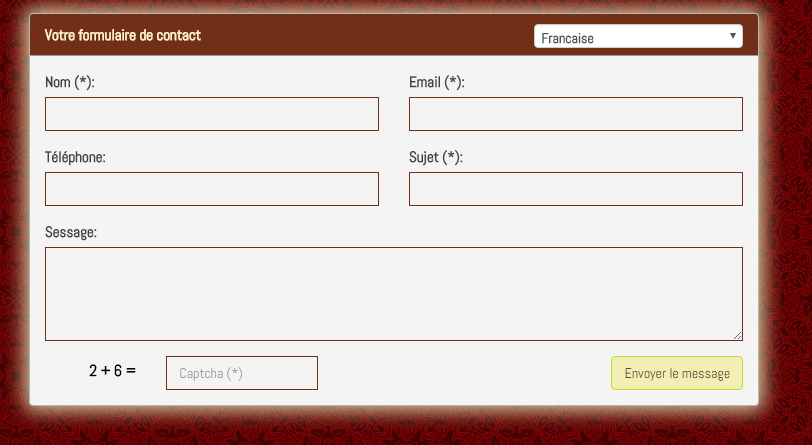_form_: (343, 9, 759, 425), (1, 1, 416, 416)
button: (610, 355, 744, 390)
field: (43, 245, 747, 341), (43, 94, 382, 133), (406, 170, 745, 208), (43, 170, 381, 208), (406, 95, 745, 132), (164, 355, 320, 391)
select: (533, 24, 744, 50)
